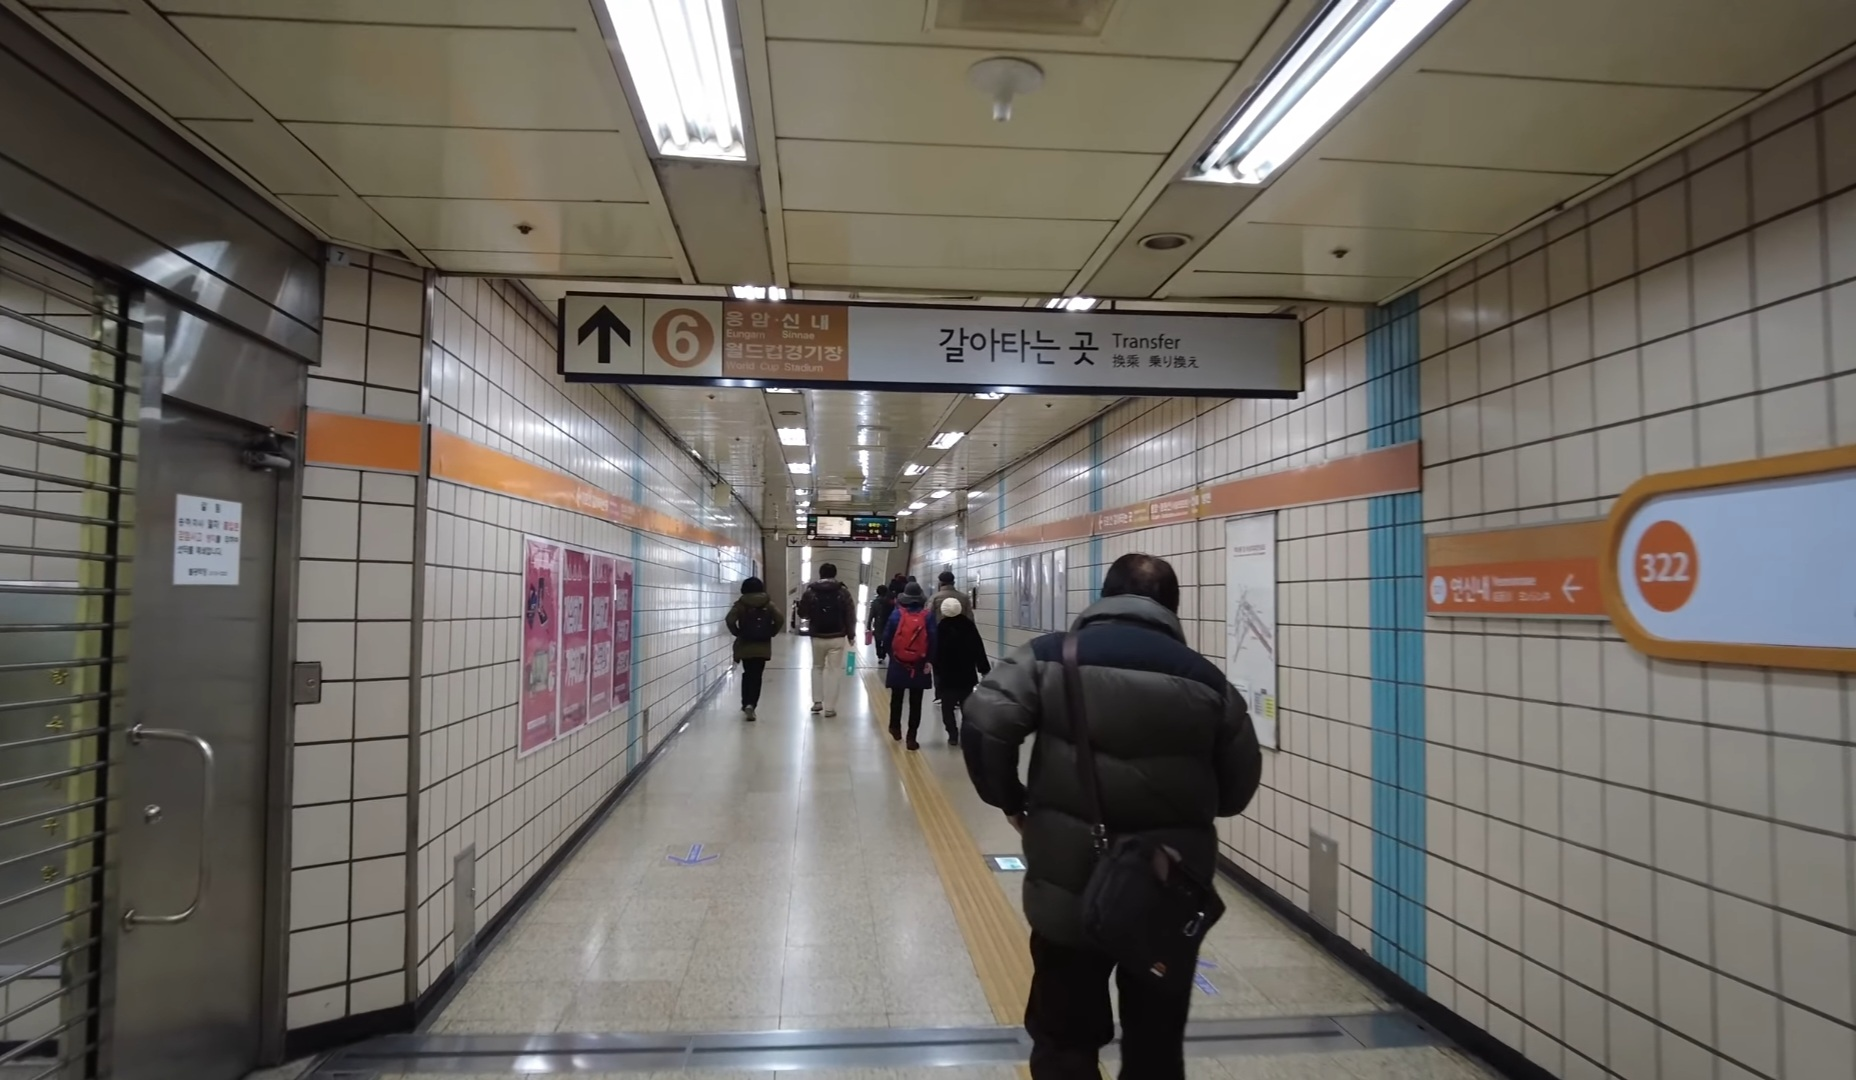signBoard: (544, 279, 1311, 402)
